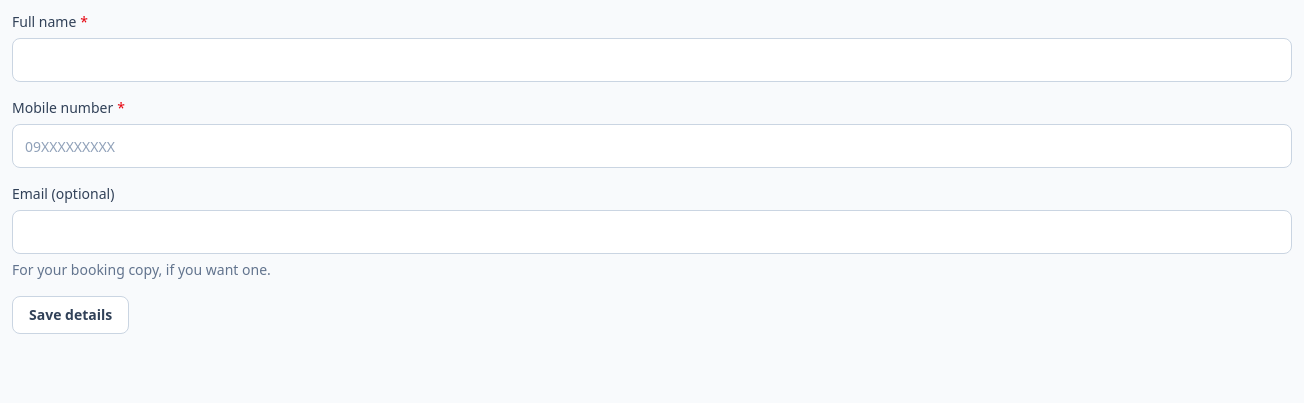
Test: CustomerDetailsForm › rejects invalid name and phone without submitting (§6)
In the field labelled "Full name*": (652, 60) [12,38,1292,82], type "A"
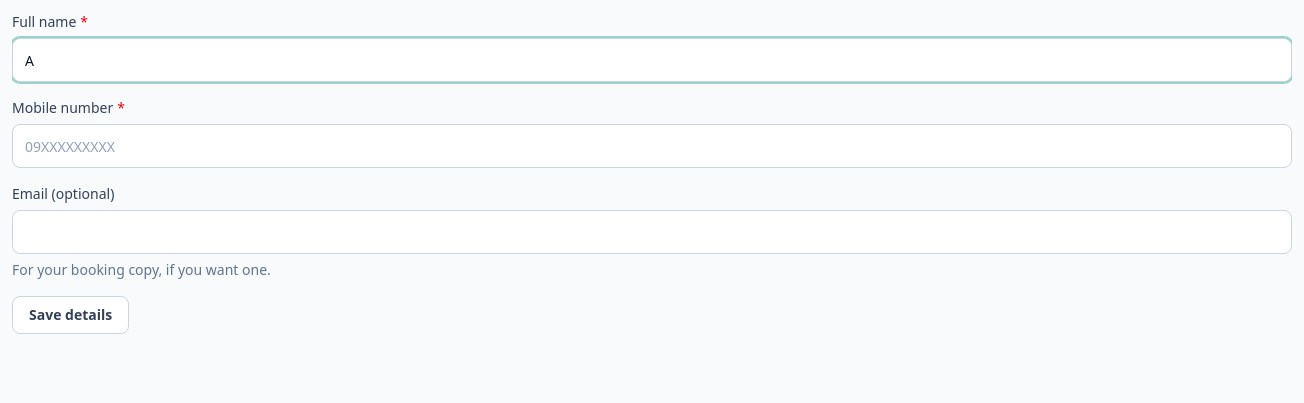
In the field labelled "Mobile number*": (652, 146) [12,124,1292,168], type "123"
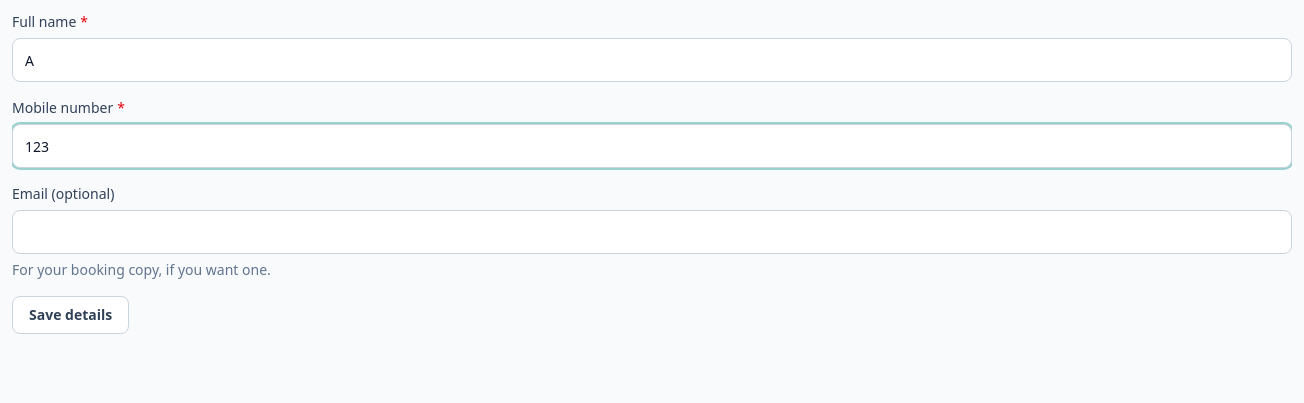
Click the button "Save details": (71, 315) [12,296,129,334]
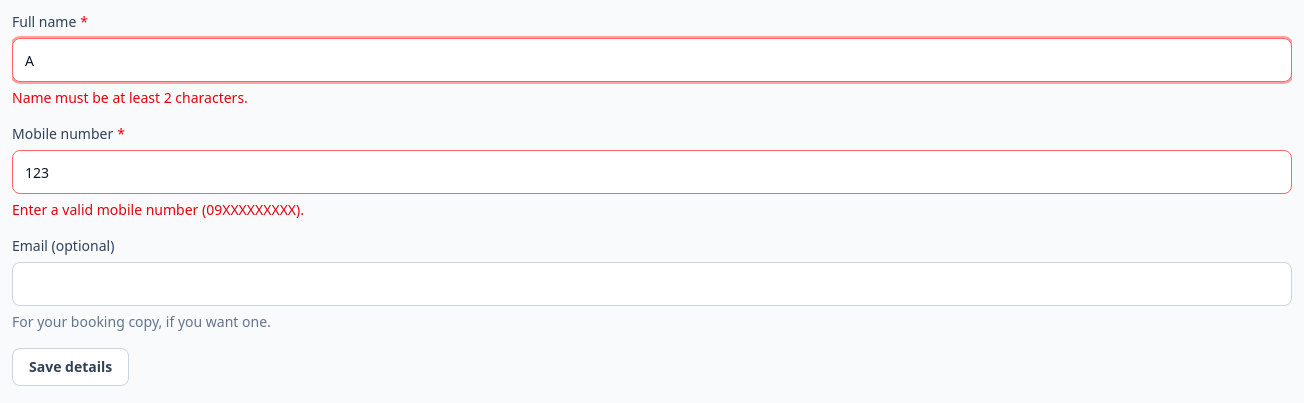
Now the text "Name must be at least 2 characters." is shown, box [12,88,248,107]
Now the text "Enter a valid mobile number (09XXXXXXXXX)." is shown, box [12,200,304,219]
